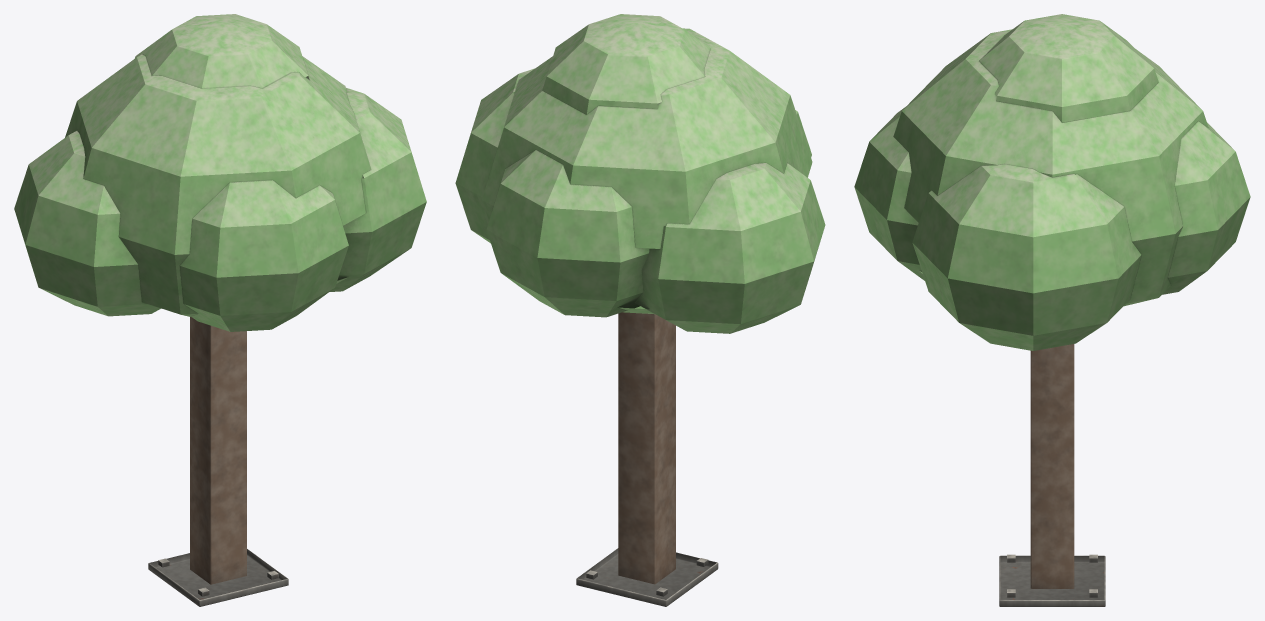
File: fake_tree.fbx
3 renders of one model, left to right at view 1: azimuth 30°, elevation 25°; view 2: azimuth 150°, elevation 25°; view 3: azimuth 270°, elevation 25°, orthographic. The views are drawn at different scales.
Parts seen in each view (by area): view 1: Body; view 2: Body; view 3: Body.
Part boxes in pixels (<box>): Body: <box>14,14,426,606</box>; Body: <box>455,14,825,606</box>; Body: <box>854,14,1250,606</box>.
Bounding box in the file's own units: 9 × 12.88 × 8.2.
Materials: 1 (1 with a texture image).
